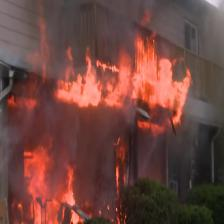fire: (15, 13, 216, 224)
smoke: (7, 1, 224, 63)
